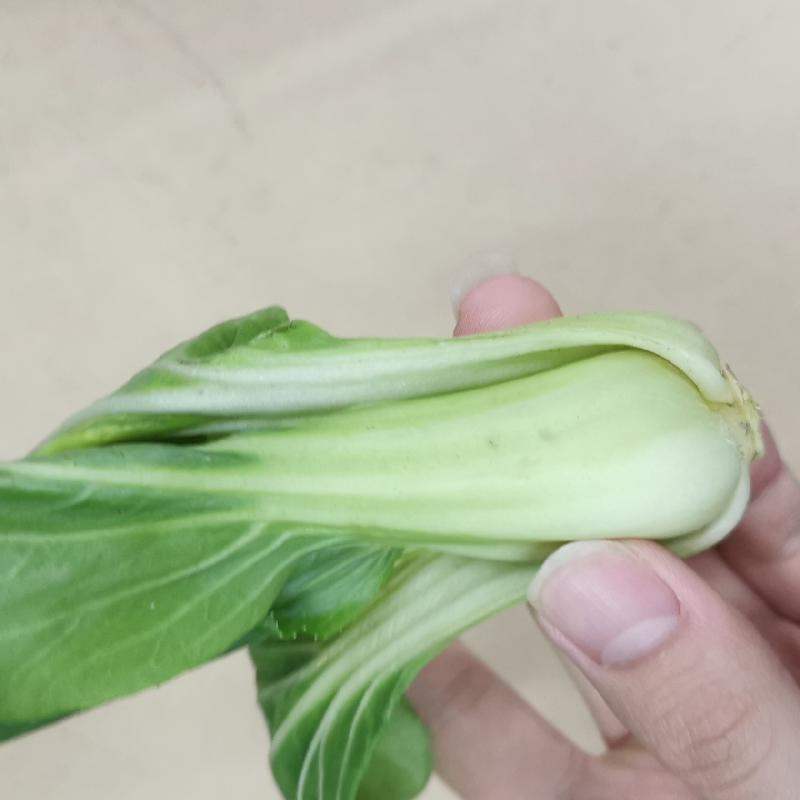green vegatable: (16, 286, 800, 782)
